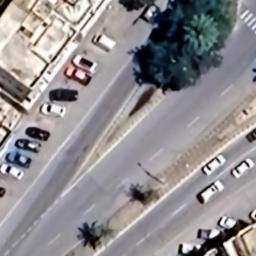pickup: (64, 64, 94, 86), (4, 150, 34, 170)
sedan: (70, 54, 102, 76), (36, 102, 70, 122), (200, 152, 226, 178), (230, 156, 255, 182), (2, 162, 24, 182)
truck: (198, 180, 224, 206)
unknown: (45, 84, 82, 106), (23, 123, 51, 143), (12, 138, 43, 154)
